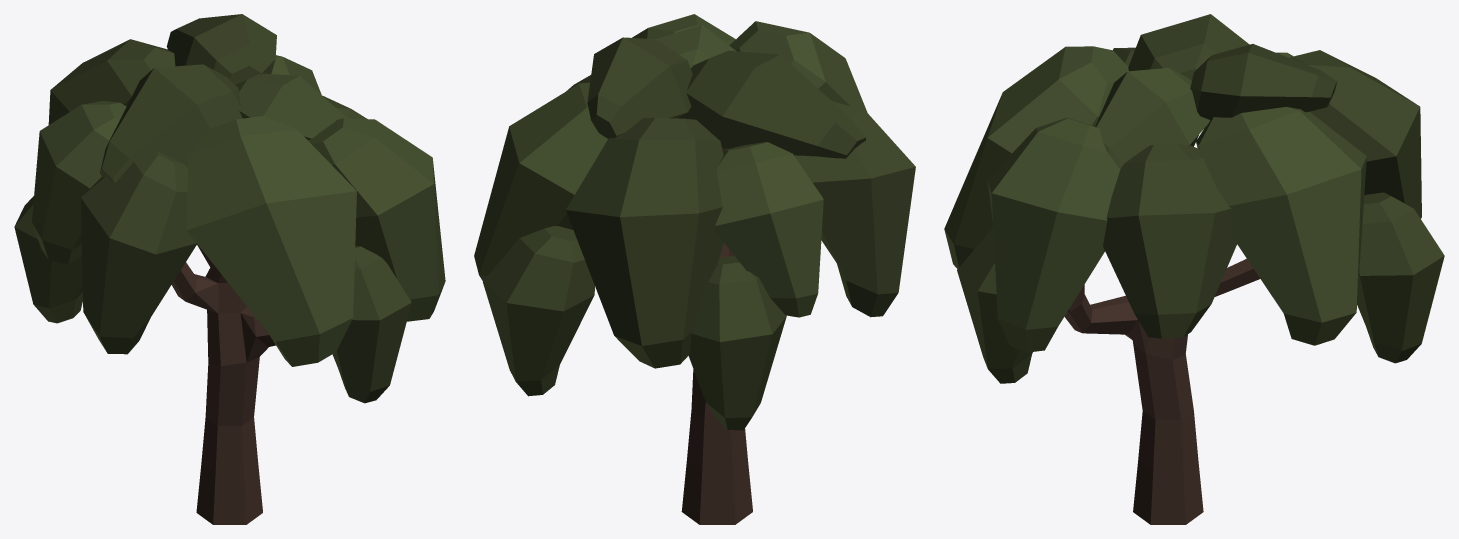
Rendered from Tree Type6 02.glb.
3 renders of one model, left to right at view 1: azimuth 30°, elevation 25°; view 2: azimuth 150°, elevation 25°; view 3: azimuth 270°, elevation 25°, orthographic. The views are drawn at different scales.
Visible parts, largest first — view 1: Tree_Type6_02_mesh; view 2: Tree_Type6_02_mesh; view 3: Tree_Type6_02_mesh.
Boxes of the visible parts, x1,y1,x2,y2 form: Tree_Type6_02_mesh: [14, 14, 445, 524]; Tree_Type6_02_mesh: [474, 14, 915, 524]; Tree_Type6_02_mesh: [944, 14, 1444, 524].
Size of the model in its own units: 2.31 by 3.12 by 2.92.
Materials: 1 (1 with a texture image).
